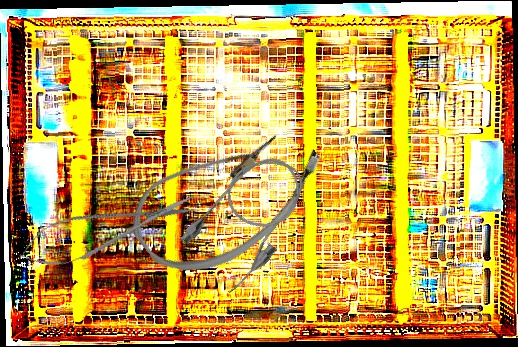Cannula: (116, 92, 338, 300), (172, 139, 326, 300)
Micro Scissor: (11, 180, 203, 279)
